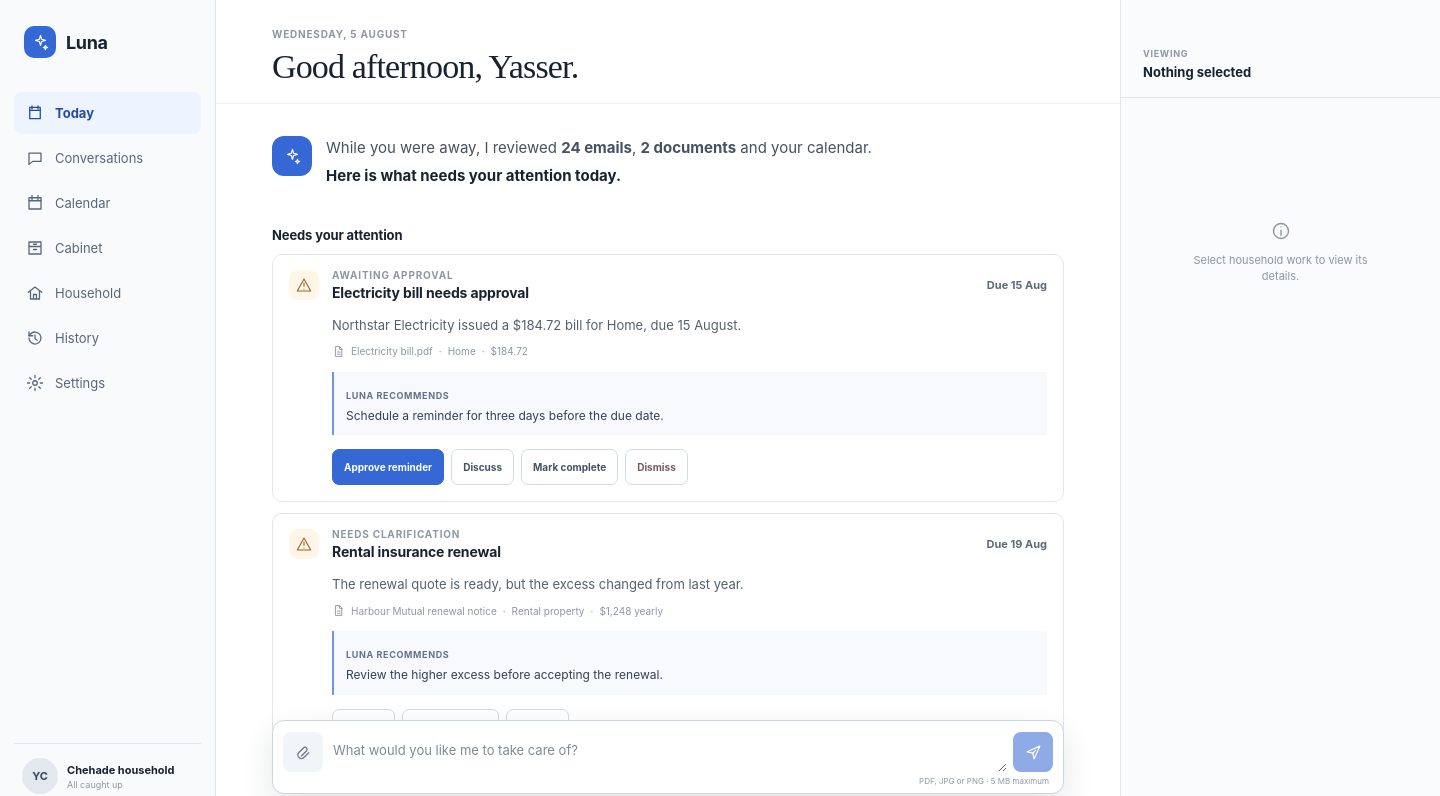
production Today route › uses selected insurance as an optional hint and updates that work in the global conversation
Click the button with aria-label "Open Rental insurance renewal".
click(396, 534)  # box top-left (273, 514), bottom-right (1063, 574)
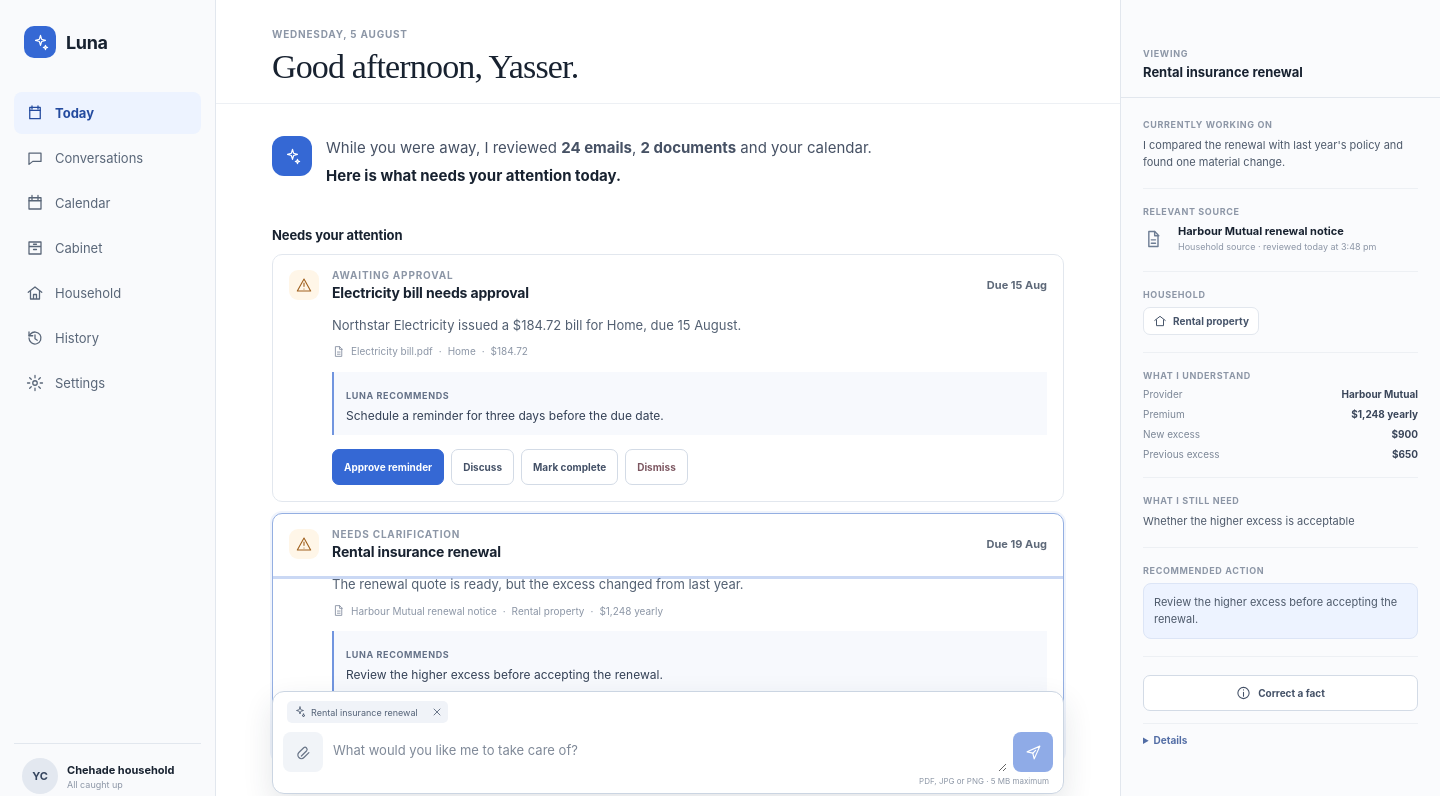
Type "Keep the current excess." into the text box named "Instruction for Luna".
click(668, 751); type("Keep the current excess.")  # box top-left (329, 730), bottom-right (1007, 772)
Then press Enter
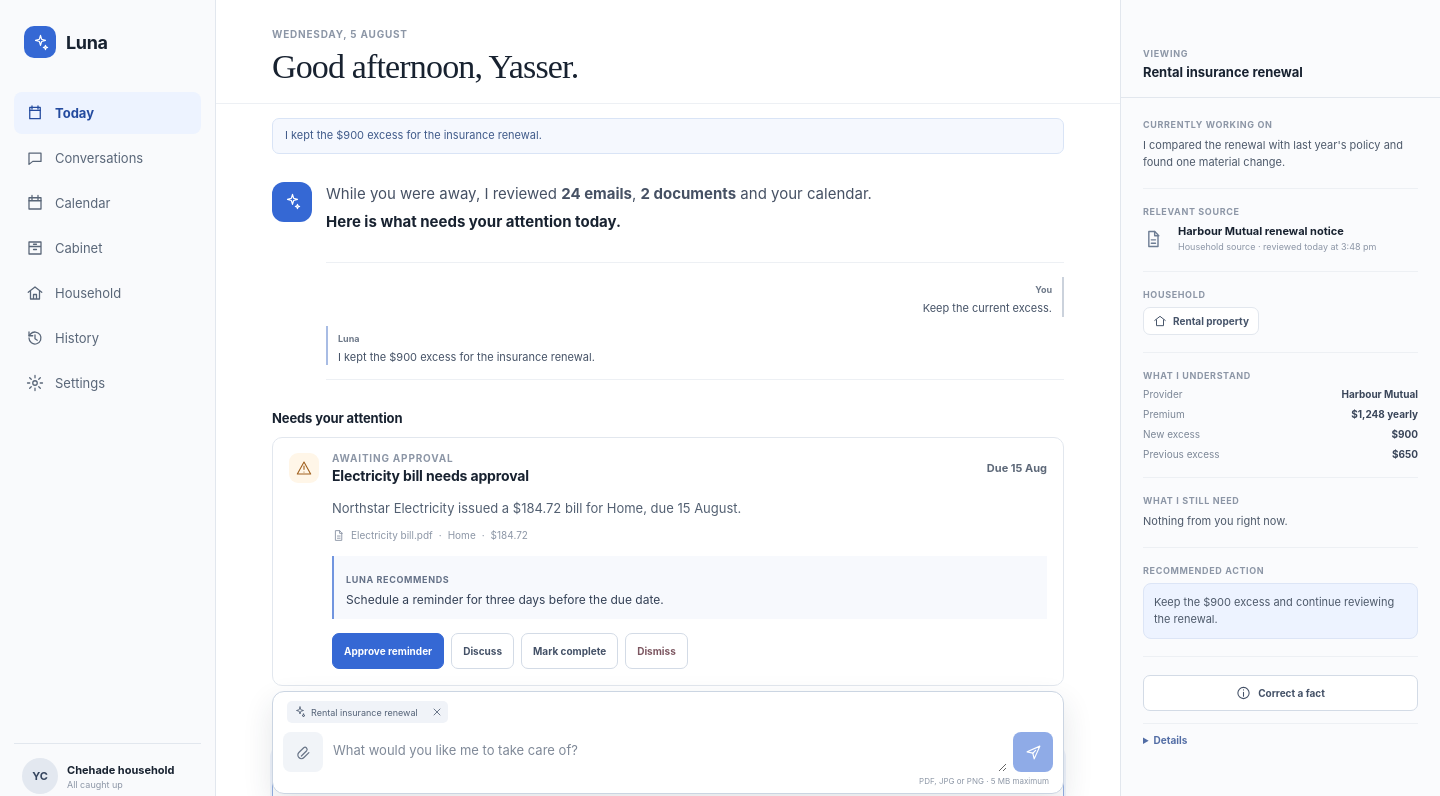
expect the text "Rental insurance renewal" is shown: met, box top-left (1143, 64), bottom-right (1303, 80)
expect the text "Keep the current excess." is shown: met, box top-left (923, 300), bottom-right (1052, 317)
expect the text "I kept the $900 excess for the insurance renewal." is shown: met, box top-left (338, 350), bottom-right (595, 364)
